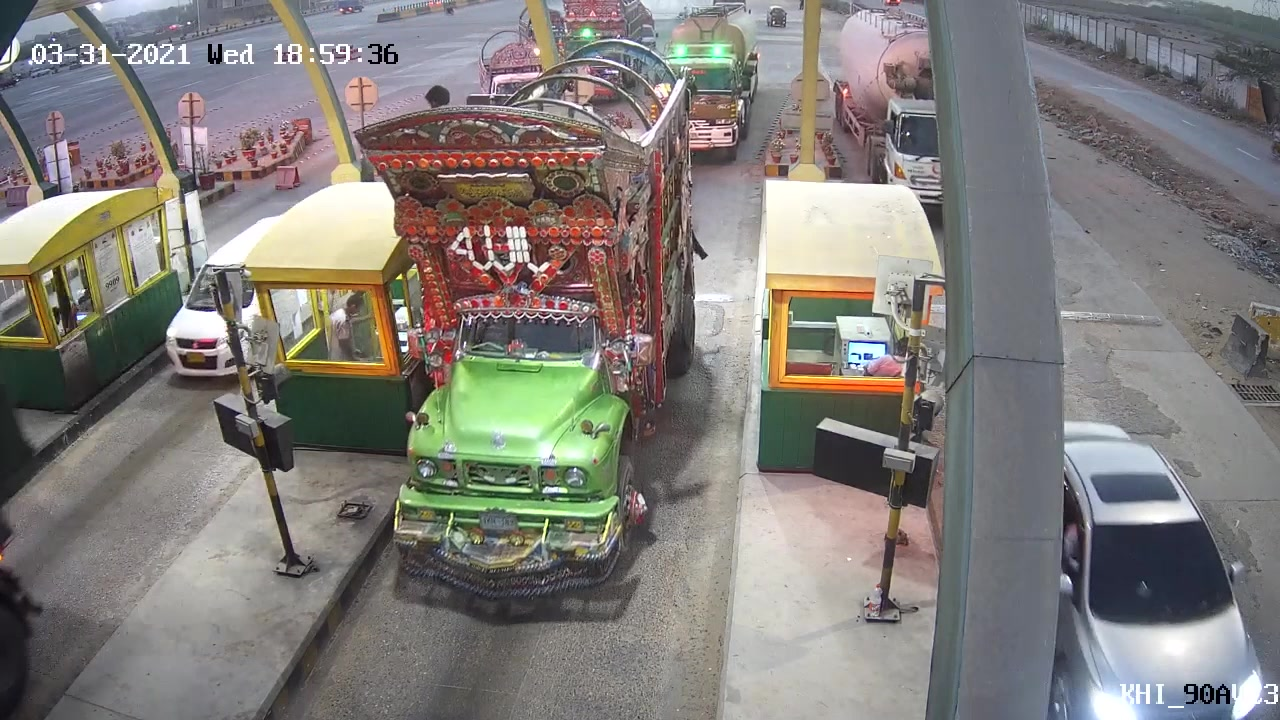F5: (350, 66, 702, 594)
